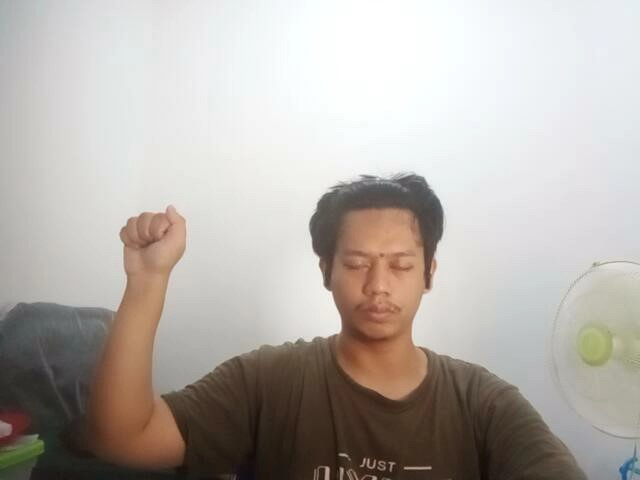A: (103, 194, 206, 281)
